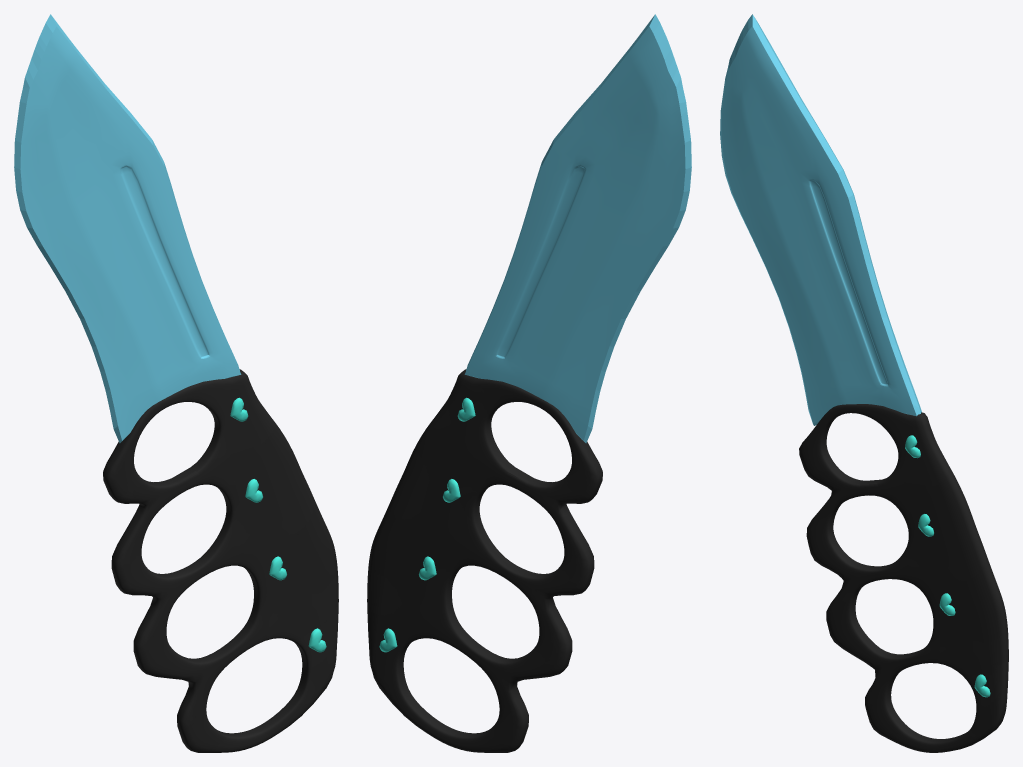
File: cuchillito.fbx
3 views of the same model, side by side, from view 1: azimuth 30°, elevation 25°; view 2: azimuth 150°, elevation 25°; view 3: azimuth 330°, elevation 25° (orthographic). The views are drawn at different scales.
Parts seen in each view (by area): view 1: Navaja, Mango, Corazones; view 2: Navaja, Mango, Corazones; view 3: Navaja, Mango, Corazones.
Part boxes in pixels (<box>): Navaja: <box>14,14,241,443</box>; Mango: <box>103,369,338,752</box>; Corazones: <box>230,397,326,652</box>; Navaja: <box>464,14,691,443</box>; Mango: <box>367,369,602,752</box>; Corazones: <box>379,397,475,652</box>; Navaja: <box>720,14,921,425</box>; Mango: <box>799,404,1008,752</box>; Corazones: <box>905,435,990,697</box>.
Bounding box in the file's own units: 105 × 242 × 6.9.
